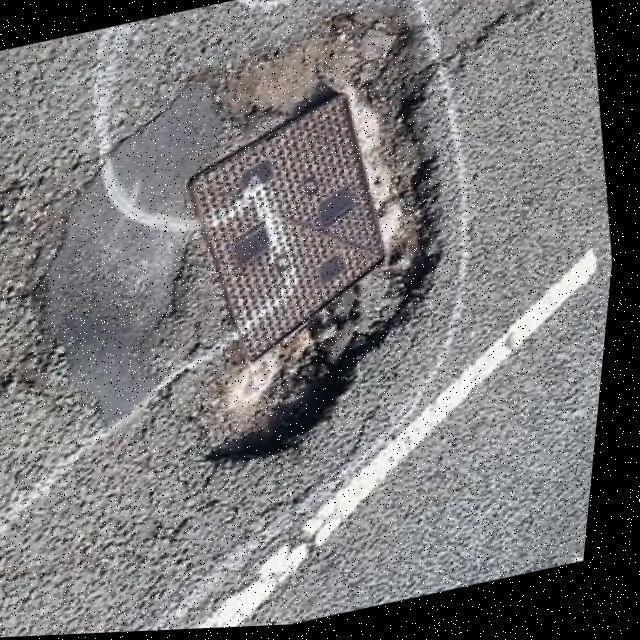Pothole: (200, 12, 447, 468), (37, 77, 219, 408)
